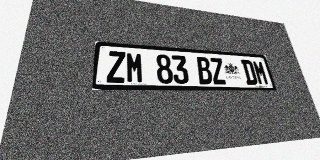3: (171, 55, 189, 84)
8: (156, 54, 174, 84)
B: (195, 57, 214, 84)
D: (241, 60, 258, 85)
M: (126, 52, 144, 83), (252, 60, 270, 85)
Z: (107, 51, 126, 83), (209, 57, 227, 84)
